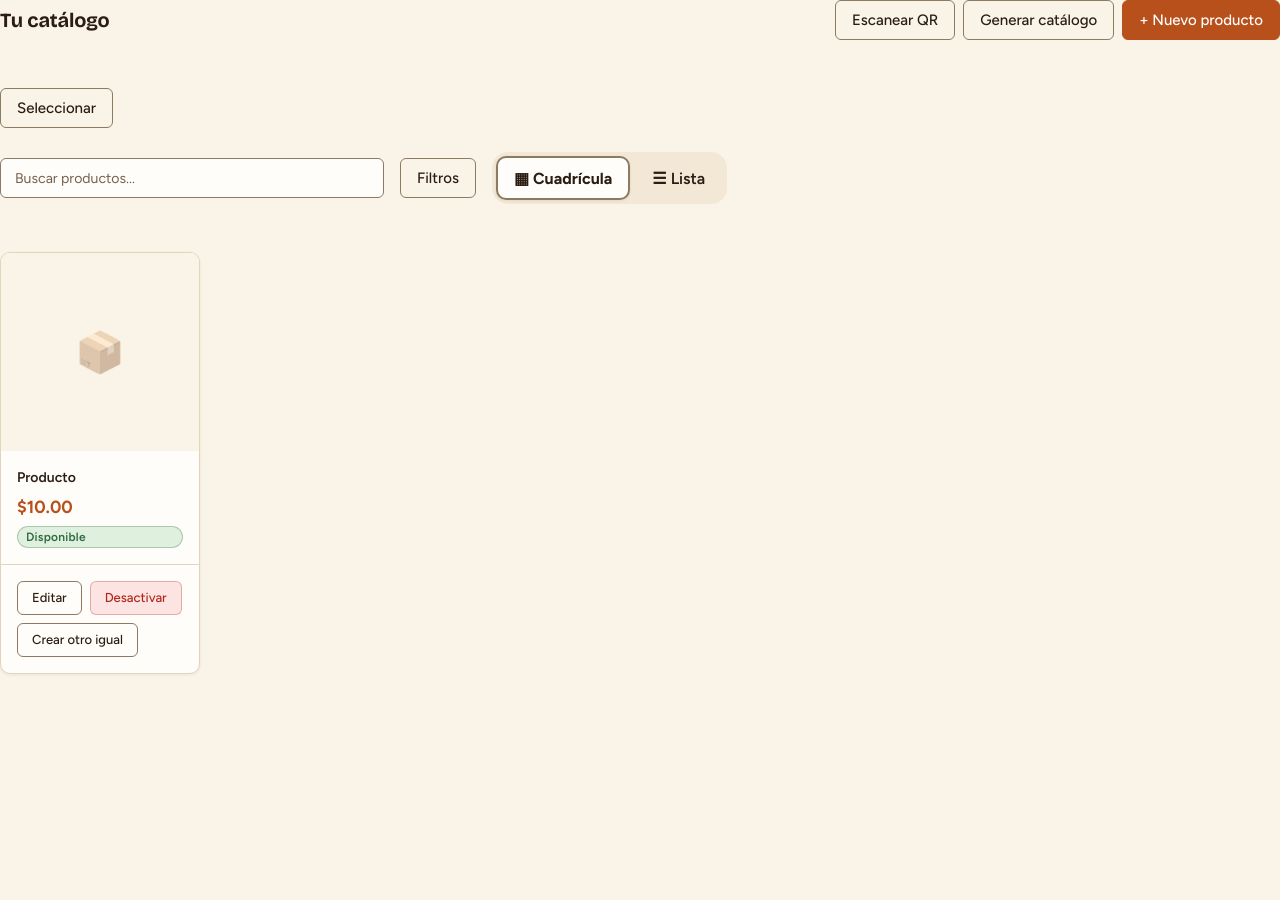
Scenario: ProductCatalogView según el modo de interfaz › gestión (por defecto) › socio: tarjetas normales, acciones, "Mostrar inactivos" y "Nuevo producto"
Expected: the element that starts with "Producto" is shown, 0,252 -> 200,674
Click the button "Filtros": (438, 178) 400,158 -> 476,198
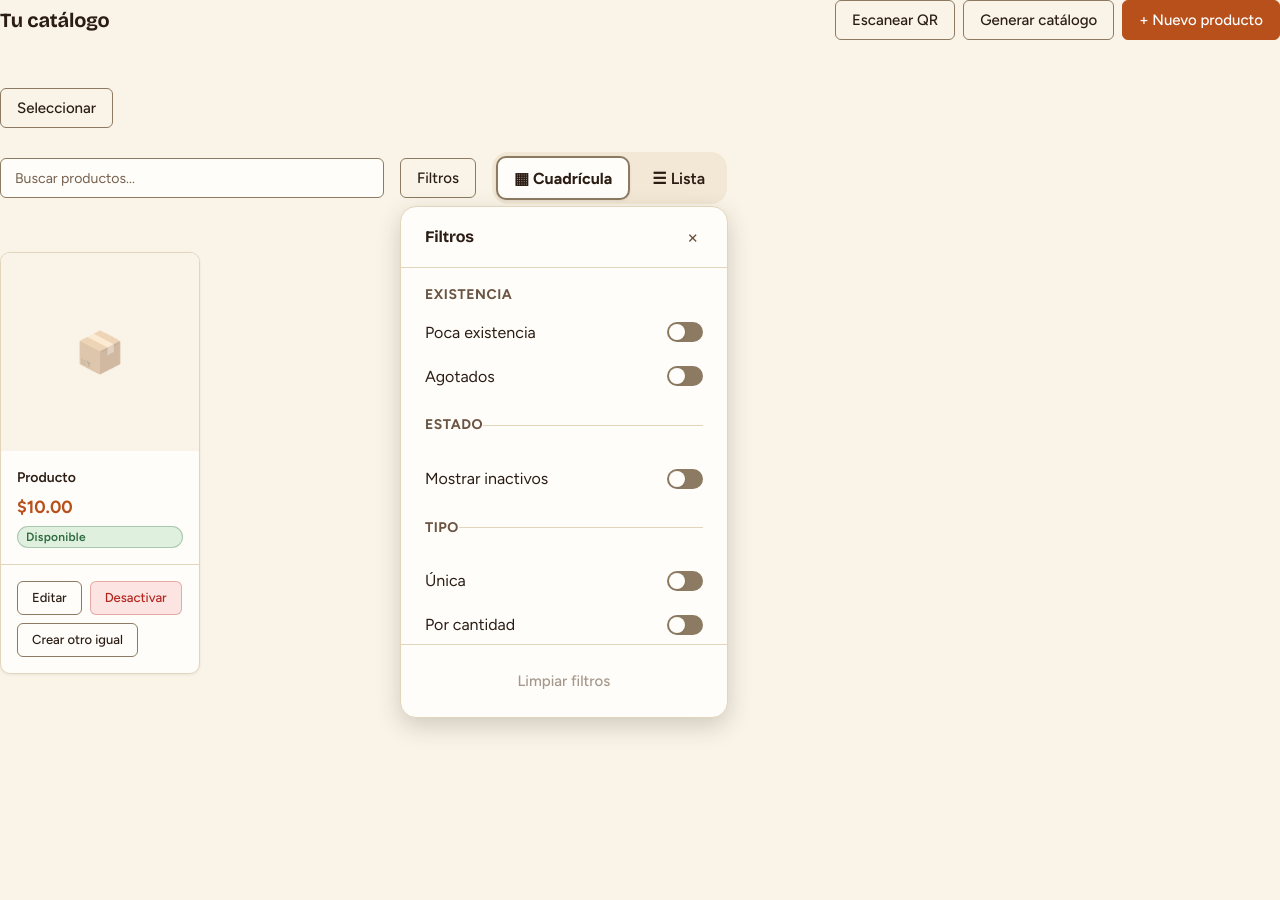
Expected: the text "Nuevo producto" is shown, 1122,0 -> 1279,40
Expected: the text "Mostrar inactivos" is shown, 425,469 -> 548,488
